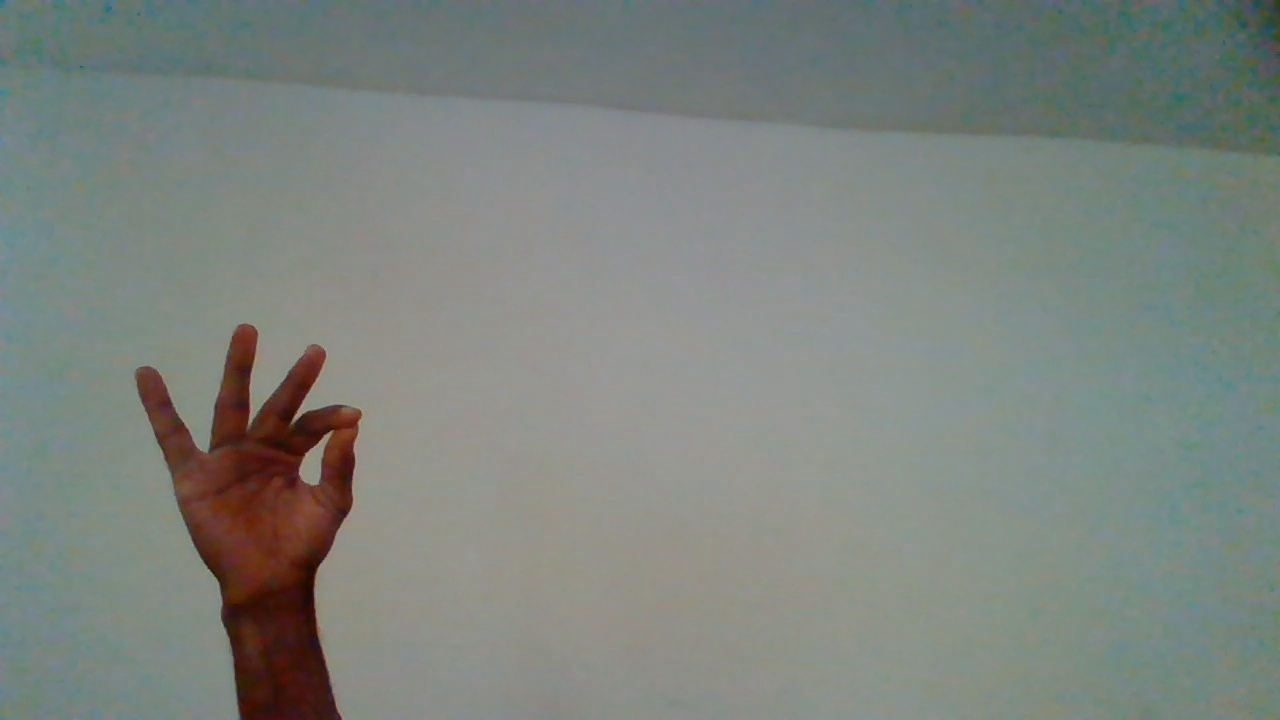le: (129, 325, 372, 707)
